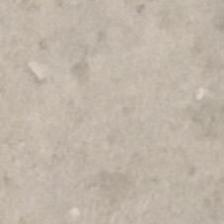Non_Crack: (18, 14, 199, 204)
